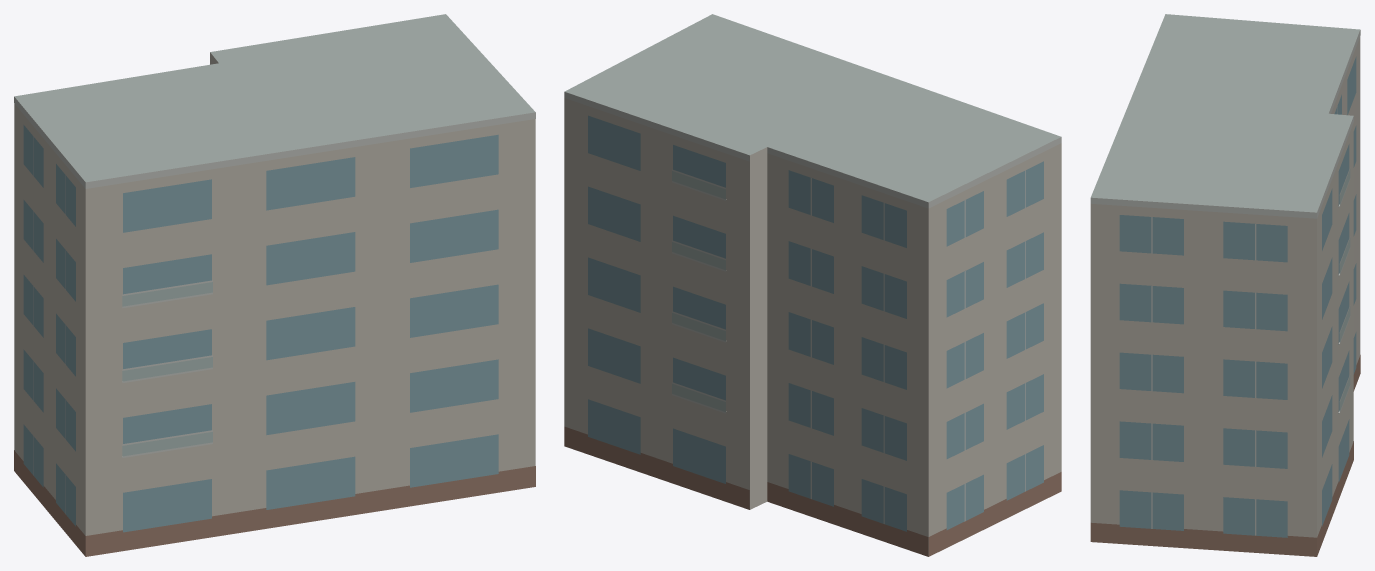
File: survey-upis-33006020.glb
3 renders of one model, left to right at view 1: azimuth 30°, elevation 25°; view 2: azimuth 150°, elevation 25°; view 3: azimuth 270°, elevation 25°, orthographic. The views are drawn at different scales.
Parts seen in each view (by area): view 1: survey-upis-33006020.tmp; view 2: survey-upis-33006020.tmp; view 3: survey-upis-33006020.tmp.
Part boxes in pixels (bbox=[...]): survey-upis-33006020.tmp: bbox=[14, 14, 535, 556]; survey-upis-33006020.tmp: bbox=[564, 14, 1061, 556]; survey-upis-33006020.tmp: bbox=[1090, 14, 1360, 556].
Size of the model in its own units: 17.08 by 13.8 by 9.81.
